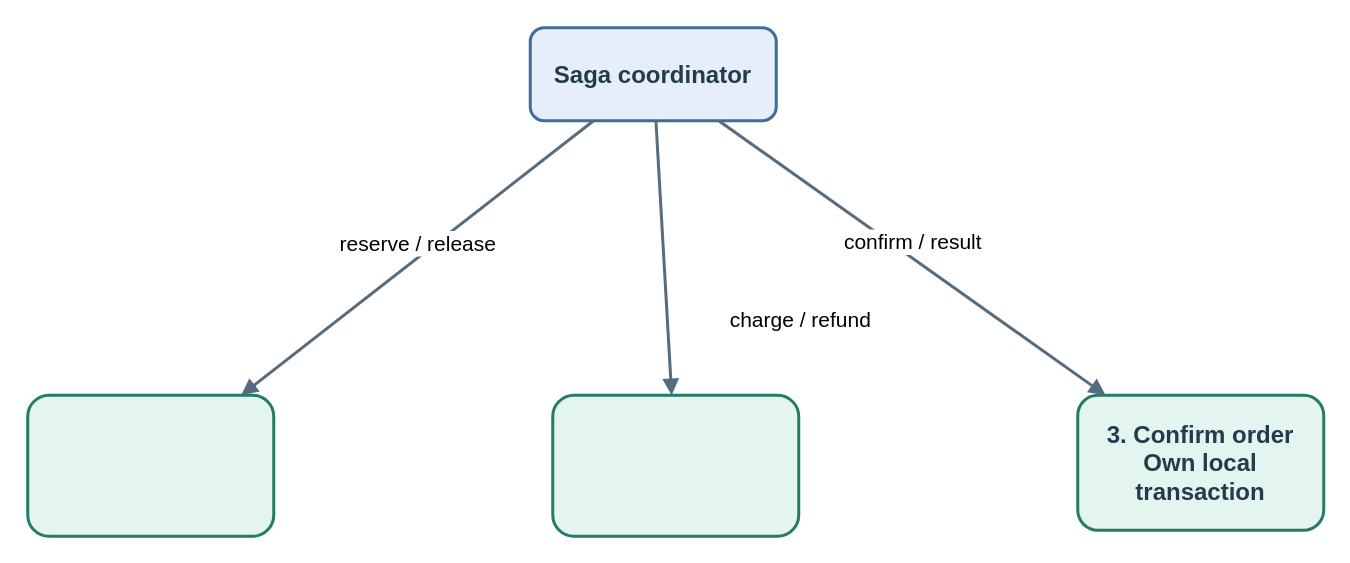
Image size: 1350x563. Some labels were removed from this diagram. Here are the shapes that lost their labels. From the top down, the box of each, then its label:
(26, 393, 274, 537): 1. Reserve inventory Own local transaction
(550, 393, 800, 537): 2. Charge payment Own local transaction
